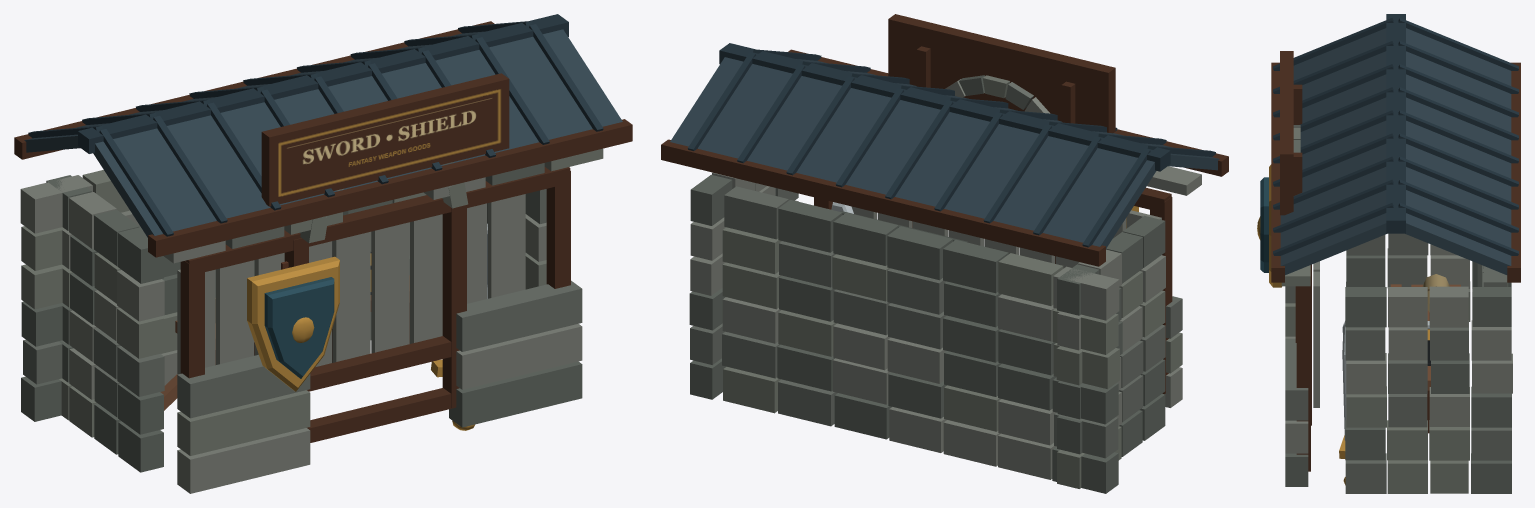
File: weapon_shop.glb
The picture shows the model from 3 angles, left to right: view 1: azimuth 30°, elevation 25°; view 2: azimuth 150°, elevation 25°; view 3: azimuth 270°, elevation 25°; orthographic projection. The views are drawn at different scales.
Parts seen in each view (by area): view 1: Stone_Masonry, Pitched_Roof, Timber_Frame, Heraldic_Sign, Heater_Shield, Arched_Entrance; view 2: Stone_Masonry, Pitched_Roof, Heraldic_Sign, Timber_Frame, Arched_Entrance; view 3: Pitched_Roof, Stone_Masonry, Heraldic_Sign, Timber_Frame, Heater_Shield, Interior_Props, Arched_Entrance, Fantasy_Sword.
Boxes of the visible parts, <box> form: Stone_Masonry: <box>20,148,603,493</box>; Pitched_Roof: <box>14,14,632,257</box>; Timber_Frame: <box>160,167,570,442</box>; Heraldic_Sign: <box>261,73,509,206</box>; Heater_Shield: <box>247,256,339,391</box>; Arched_Entrance: <box>215,162,468,428</box>; Stone_Masonry: <box>689,166,1201,493</box>; Pitched_Roof: <box>661,43,1228,266</box>; Heraldic_Sign: <box>888,14,1115,133</box>; Timber_Frame: <box>814,187,1172,394</box>; Arched_Entrance: <box>840,75,1055,263</box>; Pitched_Roof: <box>1271,14,1520,282</box>; Stone_Masonry: <box>1281,233,1512,493</box>; Heraldic_Sign: <box>1280,51,1302,215</box>; Timber_Frame: <box>1296,261,1401,471</box>; Heater_Shield: <box>1257,164,1281,287</box>; Interior_Props: <box>1411,274,1460,433</box>; Arched_Entrance: <box>1293,125,1477,425</box>; Fantasy_Sword: <box>1339,321,1346,485</box>.
Size of the model in its own units: 5.72 by 4.33 by 3.09.
Materials: 19 (1 with a texture image).
